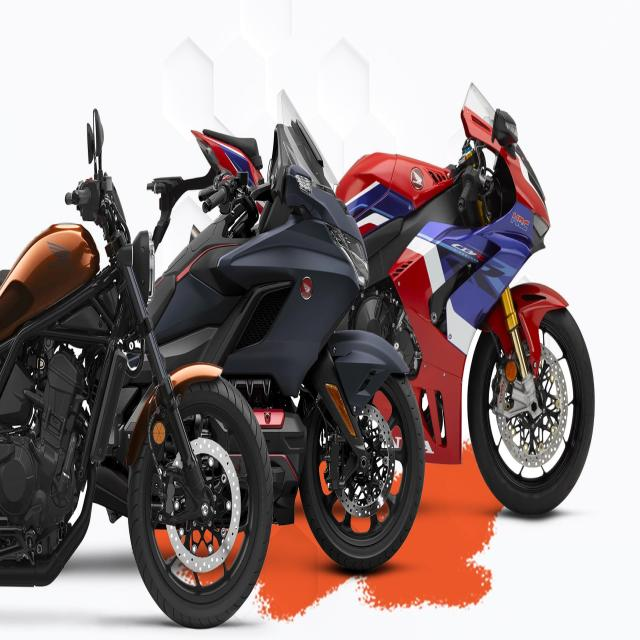Motorcycle: (337, 82, 595, 514)
